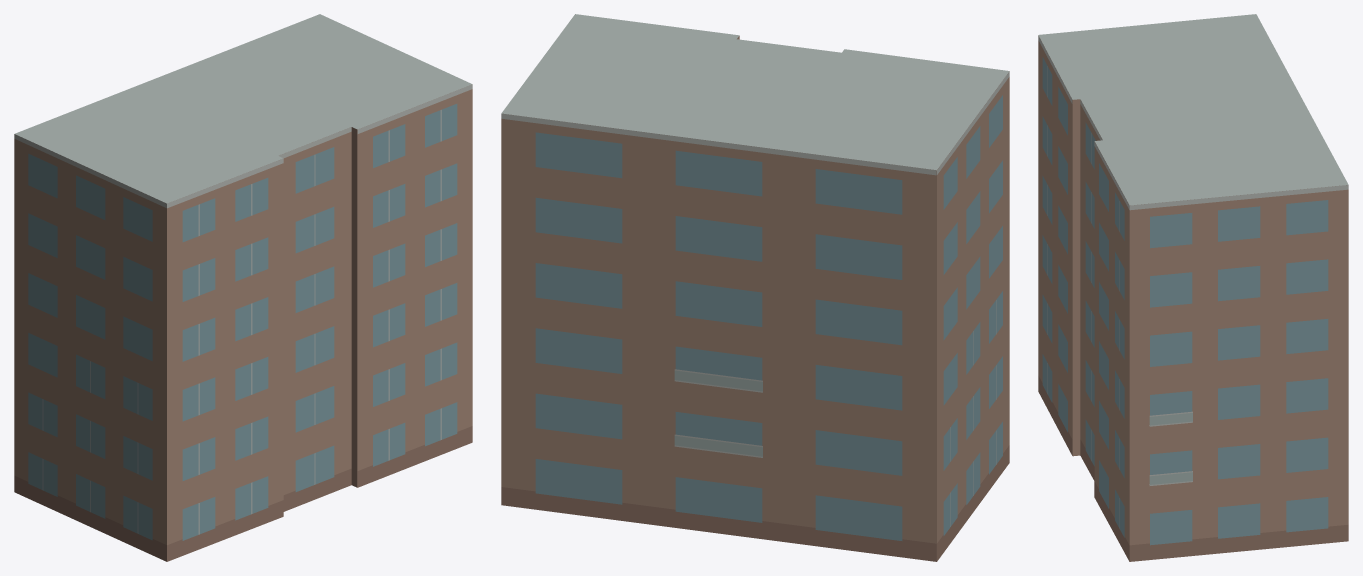
Rendered from survey-upis-32570520.glb.
3 renders of one model, left to right at view 1: azimuth 30°, elevation 25°; view 2: azimuth 150°, elevation 25°; view 3: azimuth 270°, elevation 25°, orthographic. The views are drawn at different scales.
Visible parts, largest first — view 1: survey-upis-32570520.tmp; view 2: survey-upis-32570520.tmp; view 3: survey-upis-32570520.tmp.
Part boxes in pixels (left/top/right/bottom): survey-upis-32570520.tmp: left=14, top=14, right=472, bottom=561; survey-upis-32570520.tmp: left=501, top=14, right=1009, bottom=561; survey-upis-32570520.tmp: left=1038, top=14, right=1348, bottom=561.
Bounding box in the file's own units: 21.1 × 18.3 × 14.46.
